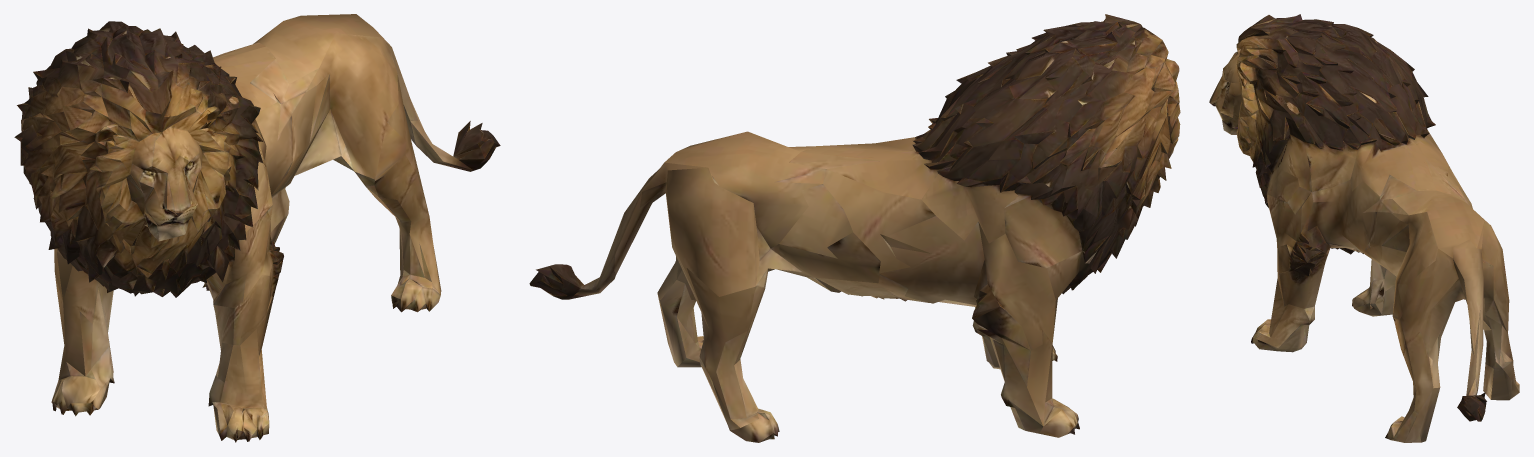
File: lion.glb
3 views of the same model, side by side, from view 1: azimuth 30°, elevation 25°; view 2: azimuth 150°, elevation 25°; view 3: azimuth 270°, elevation 25° (orthographic). The views are drawn at different scales.
Bounding box in the file's own units: 1.9 × 1.25 × 1.21.
Materials: 1 (1 with a texture image).
